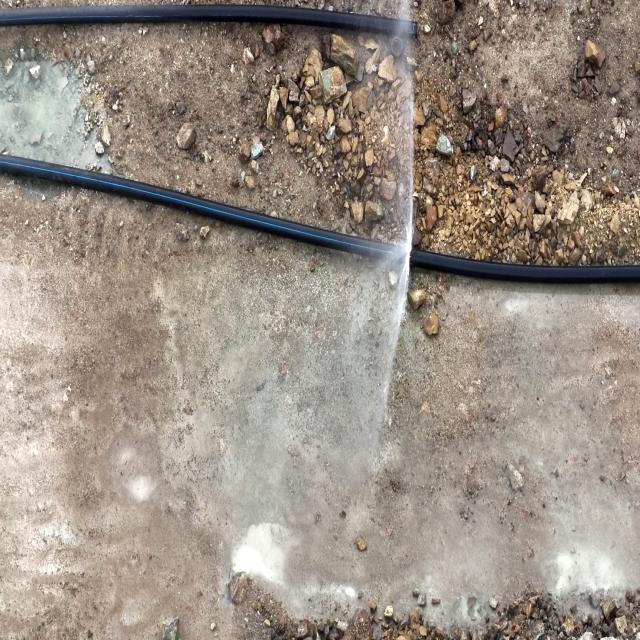leak: (379, 0, 419, 424)
